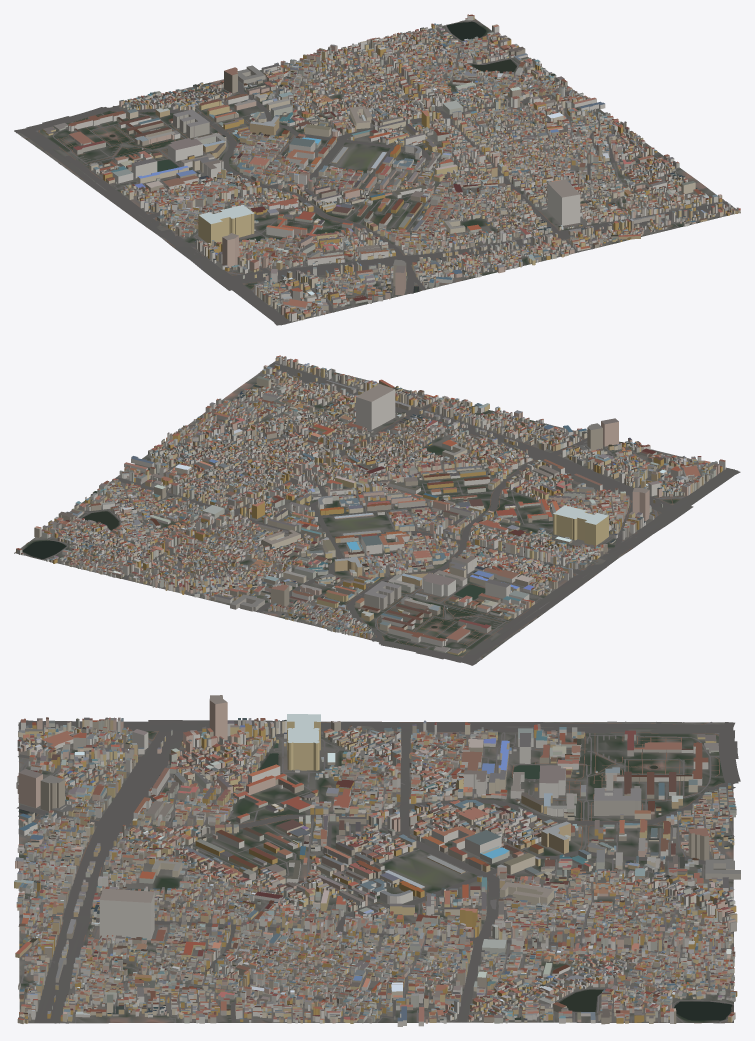
The picture shows the model from 3 angles, top to bottom: view 1: azimuth 30°, elevation 25°; view 2: azimuth 150°, elevation 25°; view 3: azimuth 270°, elevation 25°; orthographic projection. The views are drawn at different scales.
Visible parts, largest first — view 1: buildings, ground, roads, water; view 2: buildings, ground, roads, water; view 3: buildings, ground, roads, water.
Part boxes in pixels (bbox=[...]): buildings: bbox=[42, 14, 740, 321]; ground: bbox=[14, 18, 740, 325]; roads: bbox=[14, 20, 734, 325]; water: bbox=[109, 21, 516, 292]; buildings: bbox=[16, 355, 725, 655]; ground: bbox=[14, 360, 737, 662]; roads: bbox=[22, 362, 740, 665]; water: bbox=[22, 511, 610, 628]; buildings: bbox=[14, 695, 740, 1026]; ground: bbox=[18, 721, 733, 1023]; roads: bbox=[16, 720, 740, 1023]; water: bbox=[18, 743, 732, 1020].
Bounding box in the file's own units: 1427 × 87.42 × 1426.
